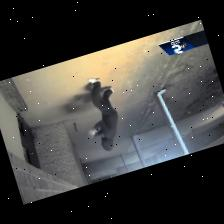person: (88, 77, 118, 150)
